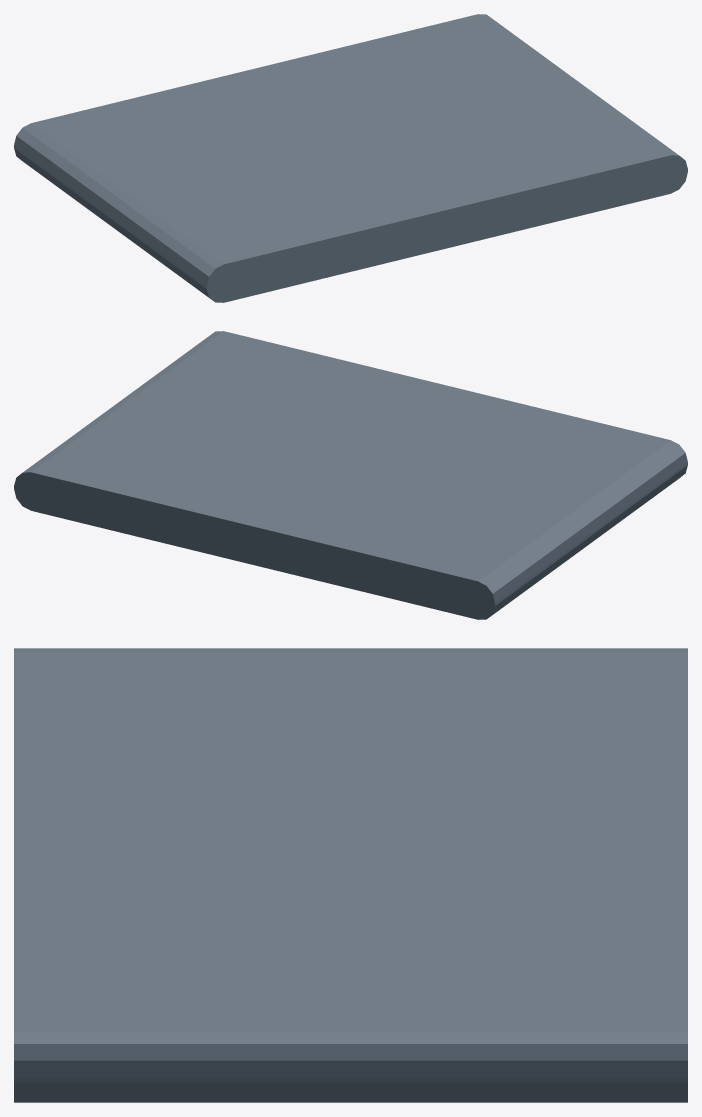
File: Spring_PadOff.gltf
3 renders of one model, top to bottom at view 1: azimuth 30°, elevation 25°; view 2: azimuth 150°, elevation 25°; view 3: azimuth 270°, elevation 25°, orthographic. The views are drawn at different scales.
Visible parts, largest first — view 1: Spring_PadOff_baked; view 2: Spring_PadOff_baked; view 3: Spring_PadOff_baked.
Part boxes in pixels (x1,y1,x2,y2): Spring_PadOff_baked: [14, 14, 687, 302]; Spring_PadOff_baked: [14, 331, 687, 619]; Spring_PadOff_baked: [14, 648, 687, 1102].
Bounding box in the file's own units: 0.72 × 0.055 × 0.5.
